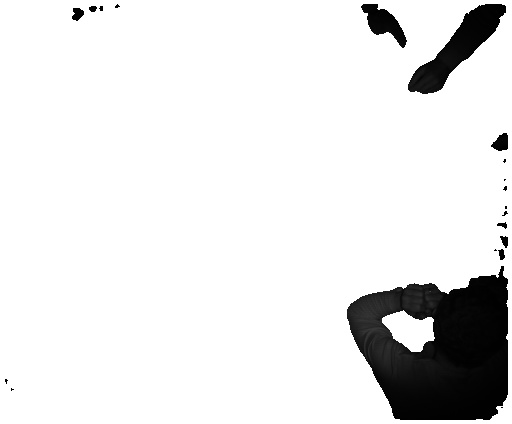fist: (408, 61, 448, 95), (395, 284, 431, 319)
hand: (364, 12, 407, 47)
